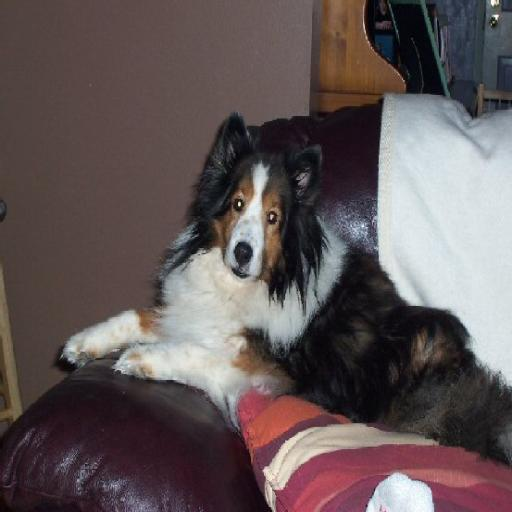dog_face: (192, 110, 325, 284)
